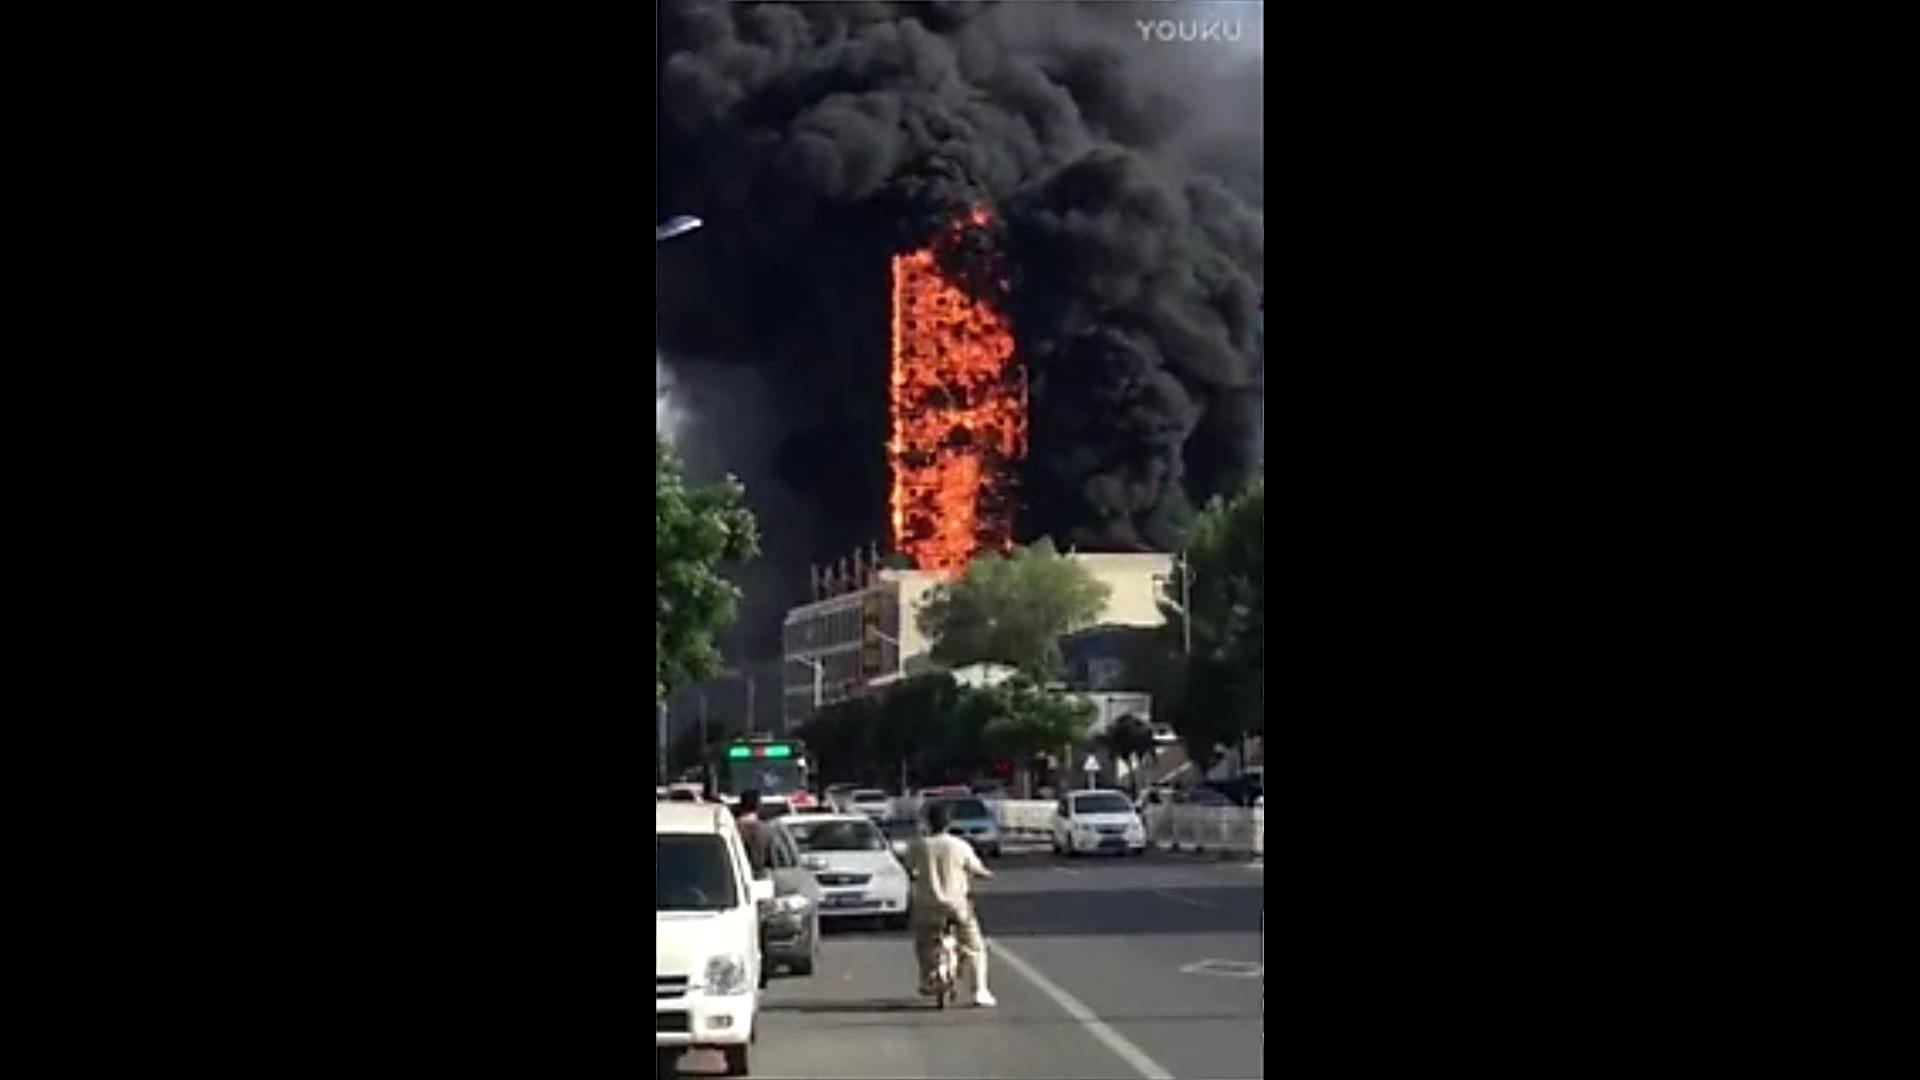fire: (882, 231, 1025, 568)
